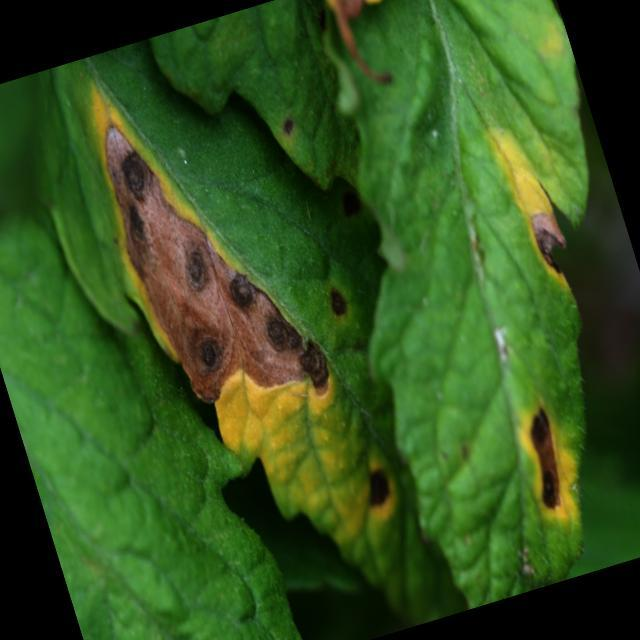Tomato late blight leaf: (0, 0, 508, 640), (247, 0, 640, 608)
